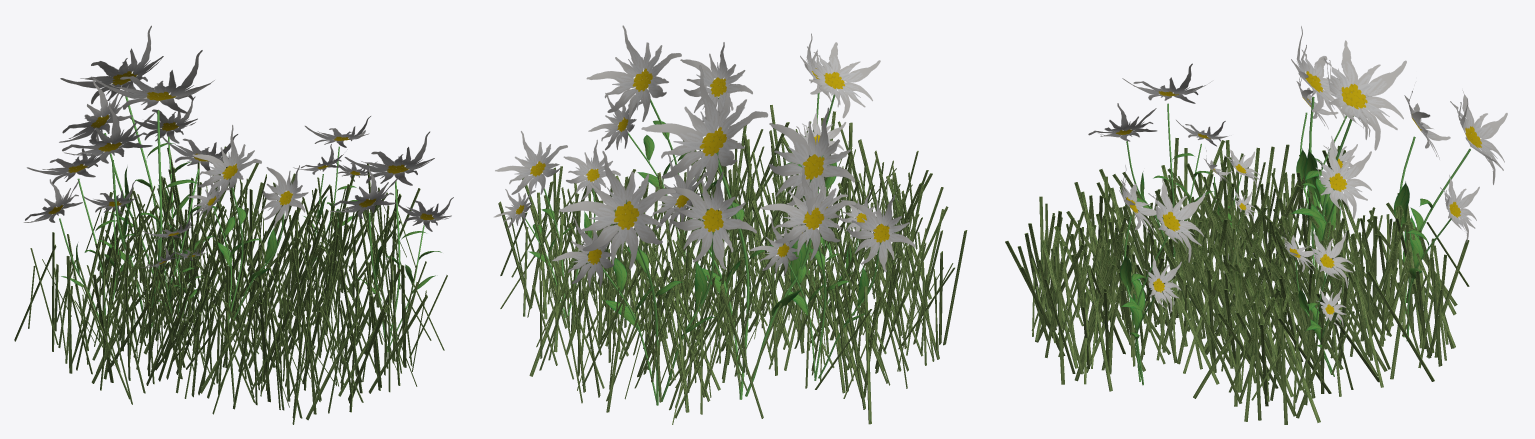
File: edelweiss_grass.glb
The picture shows the model from 3 angles, left to right: view 1: azimuth 30°, elevation 25°; view 2: azimuth 150°, elevation 25°; view 3: azimuth 270°, elevation 25°; orthographic projection. The views are drawn at different scales.
Parts seen in each view (by area): view 1: edelweiss (×7), Cube.006; view 2: edelweiss (×7), Cube.006 (×3); view 3: edelweiss (×7), Cube.006 (×5).
Boxes of the visible parts, <box> form: edelweiss (×7): <box>24,25,453,352</box>; Cube.006: <box>306,306,363,420</box>; edelweiss (×7): <box>494,25,915,405</box>; Cube.006 (×3): <box>529,242,871,424</box>; edelweiss (×7): <box>1088,26,1507,385</box>; Cube.006 (×5): <box>1054,246,1434,424</box>.
Bounding box in the file's own units: 1.1 × 0.7992 × 1.23.
5 materials, 4 textured.
